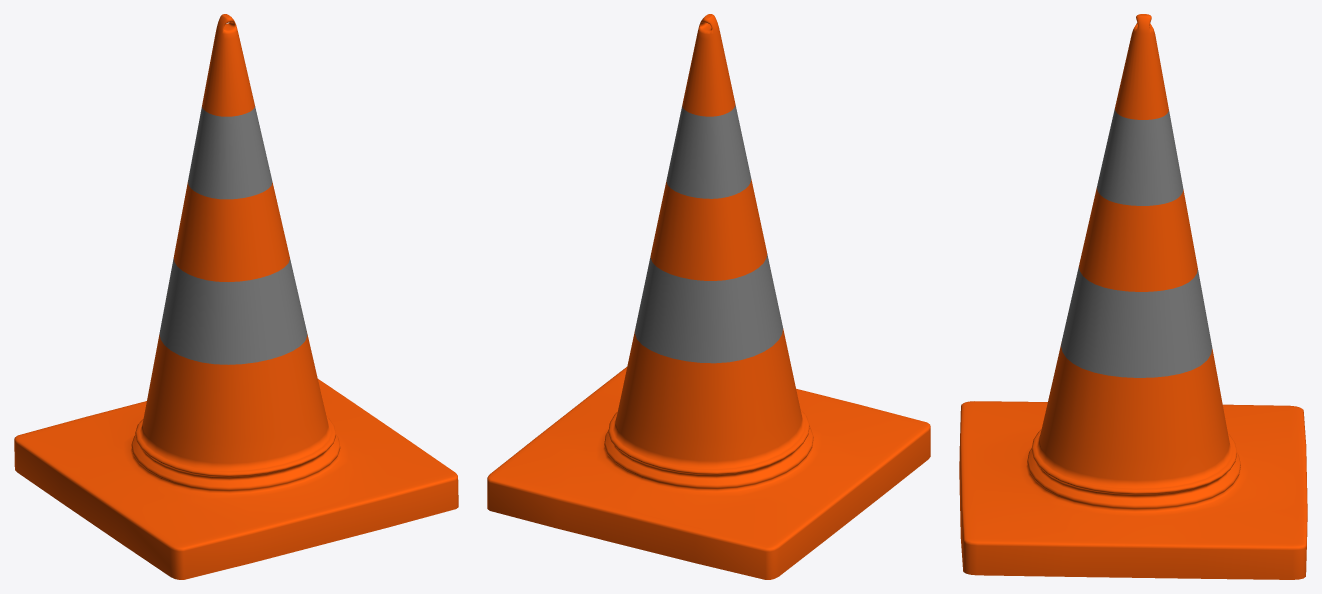
3 views of the same model, side by side, from view 1: azimuth 30°, elevation 25°; view 2: azimuth 150°, elevation 25°; view 3: azimuth 270°, elevation 25° (orthographic). The views are drawn at different scales.
Parts seen in each view (by area): view 1: cone; view 2: cone; view 3: cone.
Boxes of the visible parts, x1,y1,x2,y2 form: cone: (14,14,458,579); cone: (487,14,930,579); cone: (959,14,1307,579).
Bounding box in the file's own units: 34.21 × 34.19 × 53.45.
